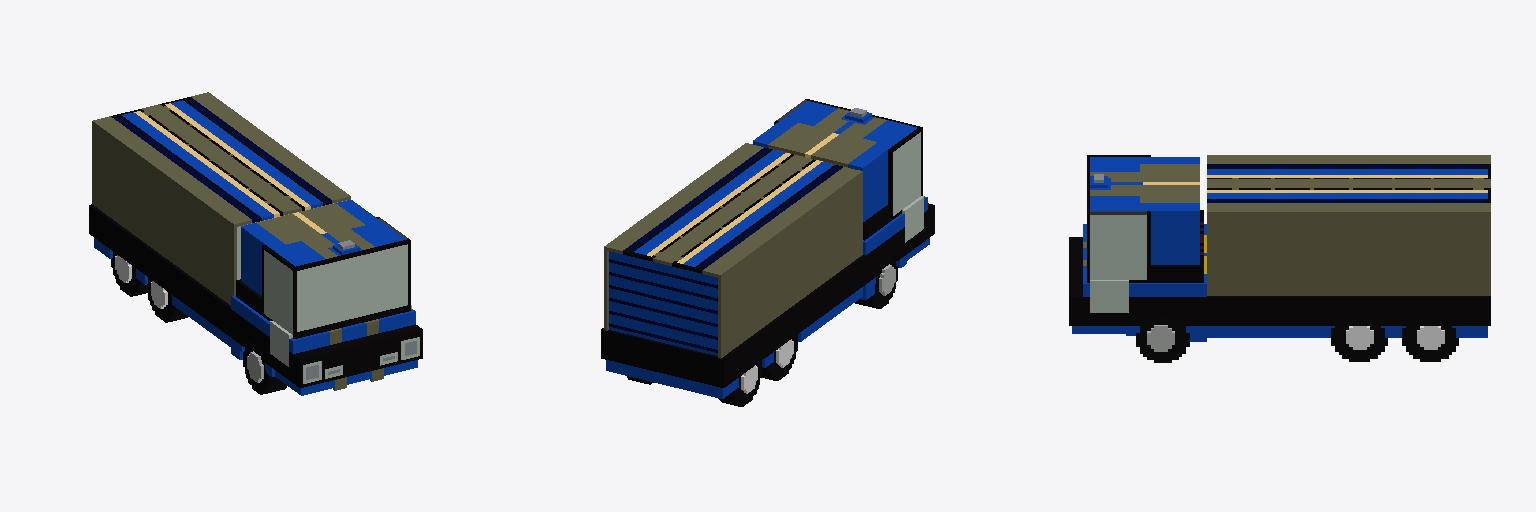
3 views of the same model, side by side, from view 1: azimuth 30°, elevation 25°; view 2: azimuth 150°, elevation 25°; view 3: azimuth 270°, elevation 25° (orthographic).
Parts seen in each view (by area): view 1: bldr_TruckSec; view 2: bldr_TruckSec; view 3: bldr_TruckSec.
Part boxes in pixels (bbox=[...]): bldr_TruckSec: bbox=[89, 92, 422, 395]; bldr_TruckSec: bbox=[601, 99, 934, 406]; bldr_TruckSec: bbox=[1069, 155, 1490, 362].
Bounding box in the file's own units: 40 × 49 × 119.
Materials: 1 (1 with a texture image).